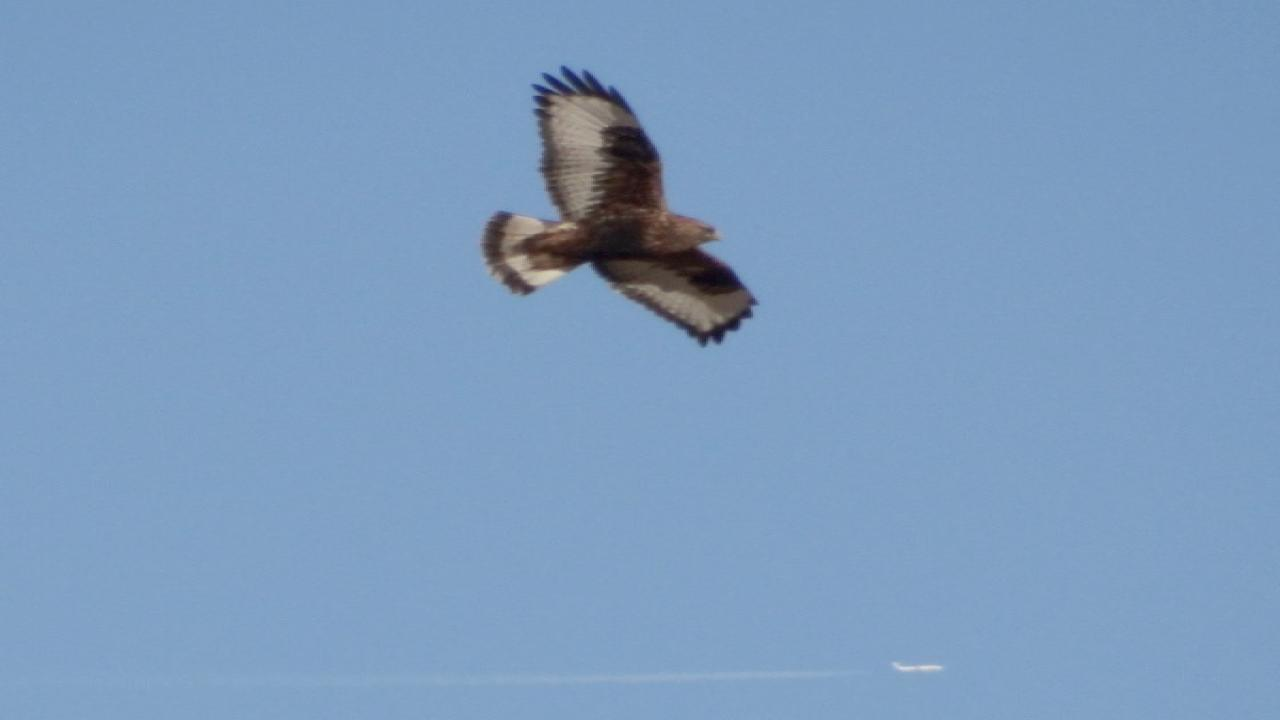Bird: (468, 57, 774, 359)
